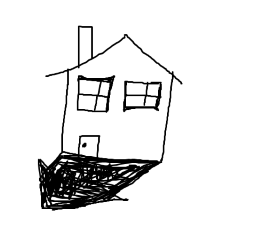chimney: (72, 20, 104, 69)
closed_window: (73, 74, 118, 118), (120, 77, 165, 116)
door: (75, 132, 105, 162)
shadow: (32, 150, 167, 211)
single_line_roof: (36, 30, 213, 85)
wall: (59, 74, 177, 160)
